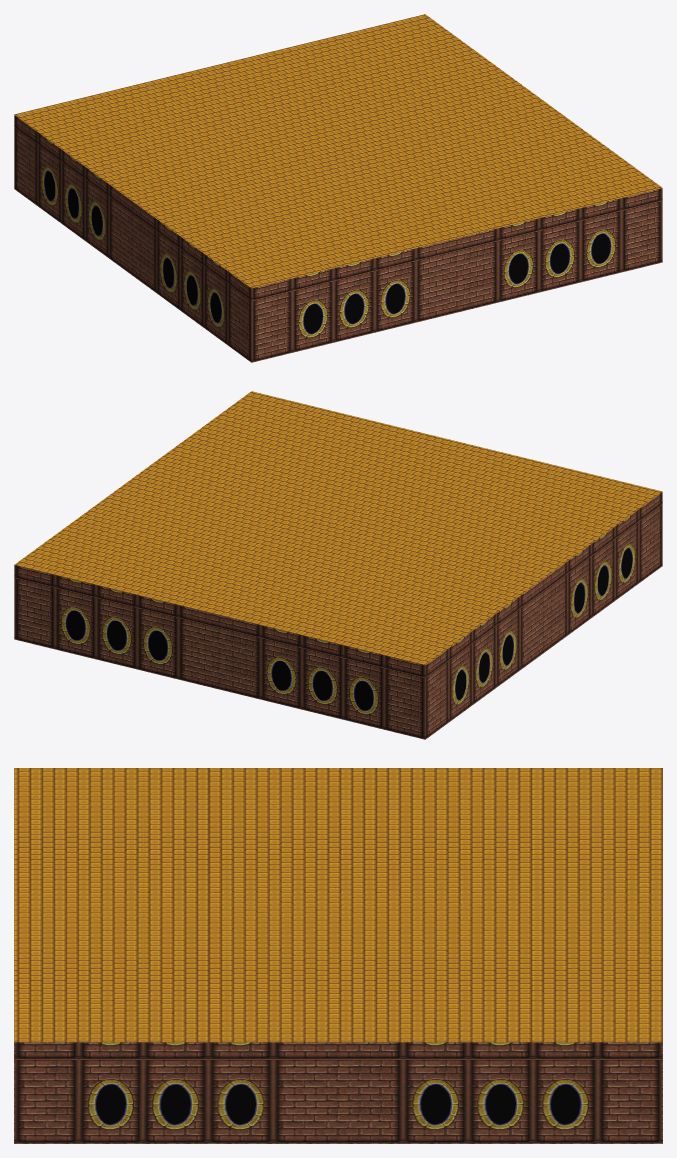
The picture shows the model from 3 angles, top to bottom: view 1: azimuth 30°, elevation 25°; view 2: azimuth 150°, elevation 25°; view 3: azimuth 270°, elevation 25°; orthographic projection. The views are drawn at different scales.
Visible parts, largest first — view 1: Polygon1, Polygon0; view 2: Polygon1, Polygon0; view 3: Polygon1, Polygon0, Polygon2.
Boxes of the visible parts, left/top/right/bottom form: Polygon1: left=14, top=14, right=662, bottom=288; Polygon0: left=14, top=115, right=662, bottom=362; Polygon1: left=14, top=391, right=662, bottom=665; Polygon0: left=14, top=492, right=662, bottom=739; Polygon1: left=14, top=768, right=662, bottom=1042; Polygon0: left=14, top=1042, right=662, bottom=1143; Polygon2: left=14, top=1042, right=662, bottom=1143.
Size of the model in its own units: 112909 by 19757 by 112909.
12 materials, 12 textured.
